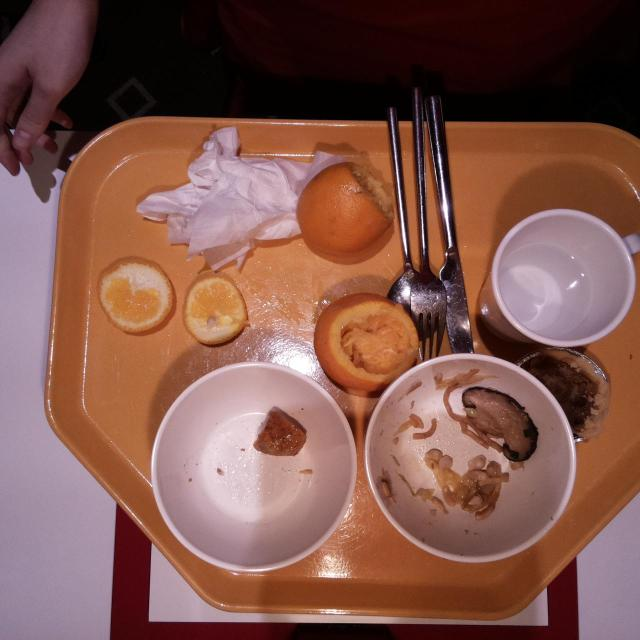Orange-peel: (314, 289, 420, 395), (296, 164, 394, 256), (94, 256, 176, 338), (182, 270, 250, 348)
Potato: (254, 407, 308, 458)
